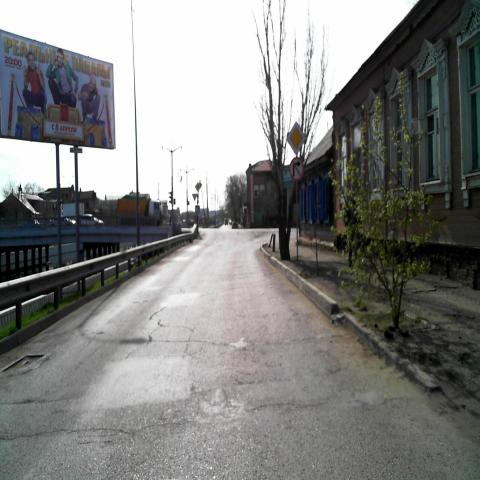3_18: (289, 156, 304, 180)
